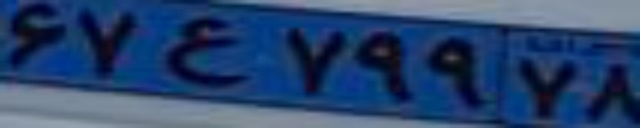6: (7, 3, 66, 70)
7: (72, 6, 138, 76), (282, 26, 347, 96), (513, 54, 577, 118)
8: (586, 60, 636, 123)
9: (355, 29, 413, 102), (425, 35, 483, 107)
ain: (156, 14, 251, 88)
